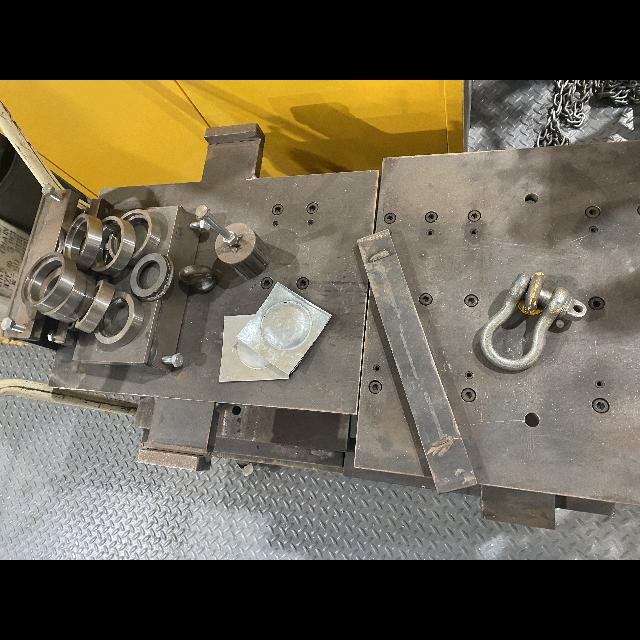Aluminium: (217, 314, 289, 383)
Ferrous Metal: (356, 230, 477, 493), (72, 205, 201, 372), (537, 81, 639, 147), (17, 251, 97, 323), (194, 206, 270, 277), (94, 292, 144, 347), (91, 216, 136, 276), (63, 213, 103, 271), (121, 209, 162, 265), (75, 280, 115, 333), (131, 253, 174, 300), (520, 273, 545, 313)
Galvanized Steel: (479, 270, 585, 370), (238, 281, 331, 374)
